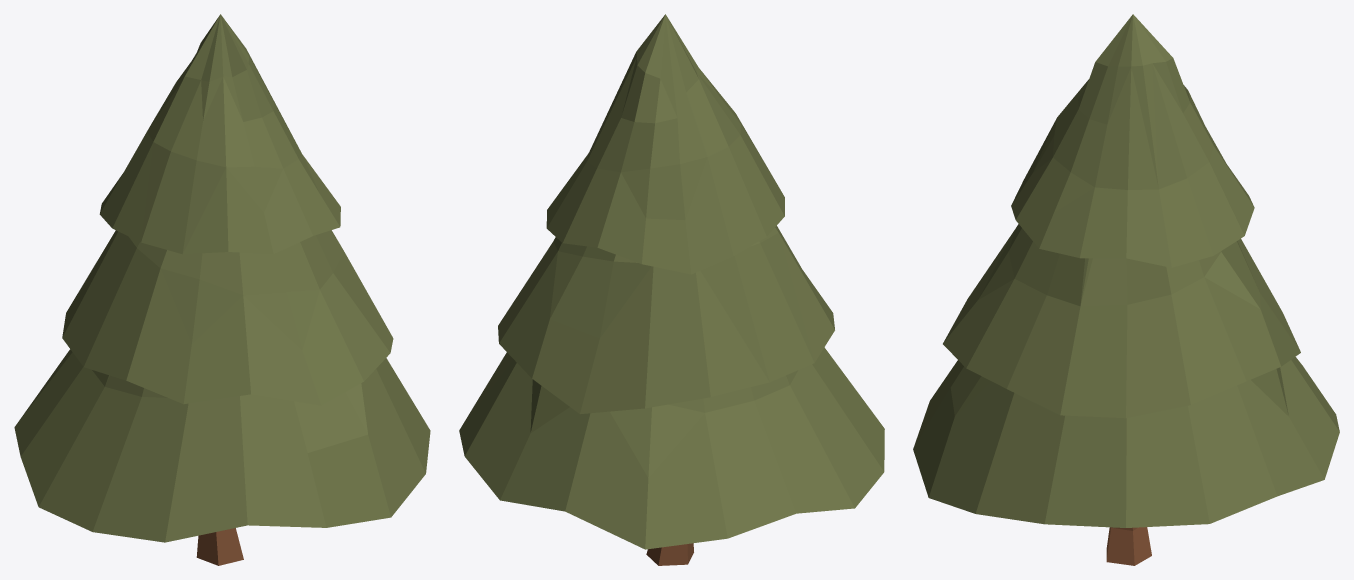
File: Tree_09.fbx
3 views of the same model, side by side, from view 1: azimuth 30°, elevation 25°; view 2: azimuth 150°, elevation 25°; view 3: azimuth 270°, elevation 25° (orthographic).
Parts seen in each view (by area): view 1: Cone.001, Cone.002, Cone.003, Cylinder.016; view 2: Cone.001, Cone.002, Cone.003, Cylinder.016; view 3: Cone.001, Cone.002, Cone.003, Cylinder.016.
Boxes of the visible parts, x1,y1,x2,y2 form: Cone.001: (14, 349, 430, 542); Cone.002: (62, 230, 393, 405); Cone.003: (99, 14, 340, 254); Cylinder.016: (196, 528, 243, 565); Cone.001: (459, 347, 884, 549); Cone.002: (498, 226, 834, 414); Cone.003: (546, 14, 784, 274); Cylinder.016: (646, 543, 693, 565); Cone.001: (913, 357, 1339, 527); Cone.002: (943, 224, 1300, 418); Cone.003: (1011, 14, 1254, 267); Cylinder.016: (1106, 527, 1151, 565).
Size of the model in its own units: 392 by 554 by 395.
